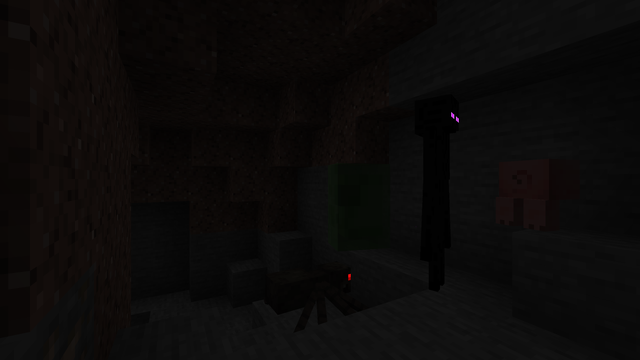araignees: (270, 252, 365, 329)
cochons: (495, 155, 599, 233)
endermens: (407, 86, 467, 298)
slimes: (310, 158, 389, 253)
